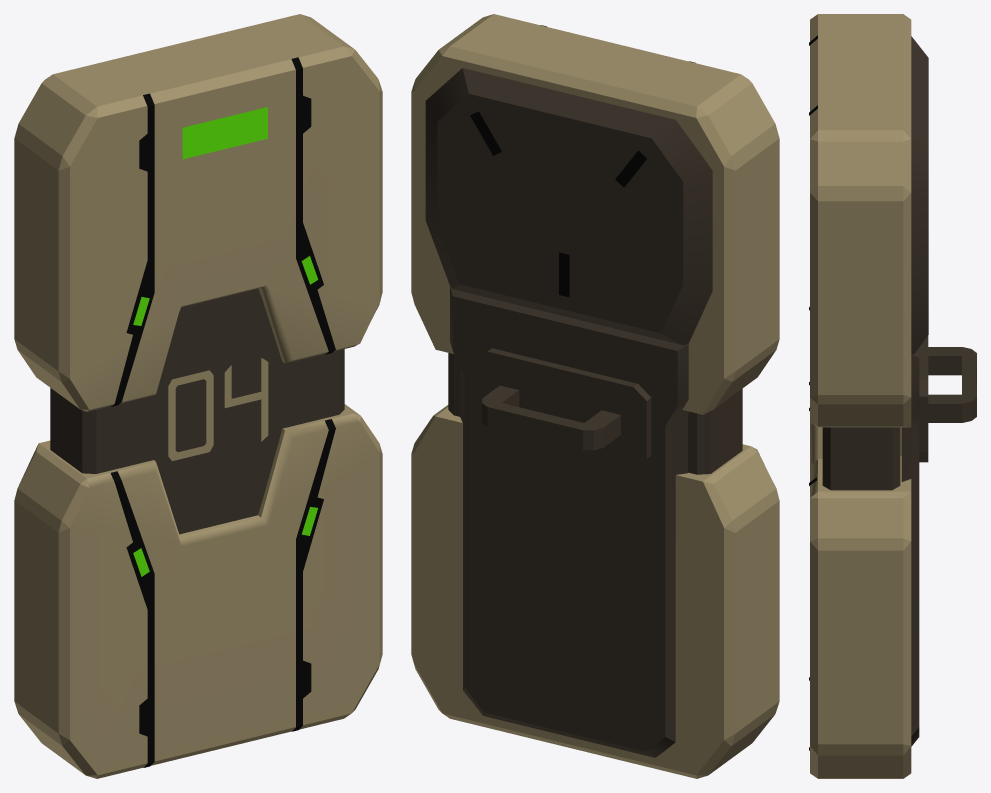
The model's file is Shield1.fbx.
3 renders of one model, left to right at view 1: azimuth 30°, elevation 25°; view 2: azimuth 150°, elevation 25°; view 3: azimuth 270°, elevation 25°, orthographic. The views are drawn at different scales.
Visible parts, largest first — view 1: shield; view 2: shield; view 3: shield.
Boxes of the visible parts, x1,y1,x2,y2 form: shield: (14, 14, 382, 778); shield: (411, 14, 779, 778); shield: (809, 14, 976, 778).
Size of the model in its own units: 0.6239 by 1.24 by 0.2916.
